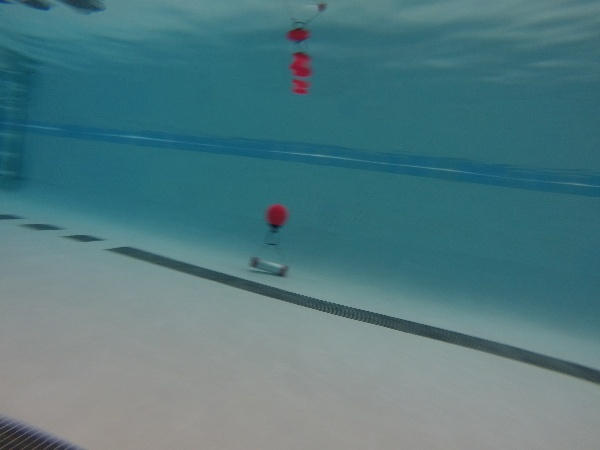buoy_red: (266, 203, 287, 233)
